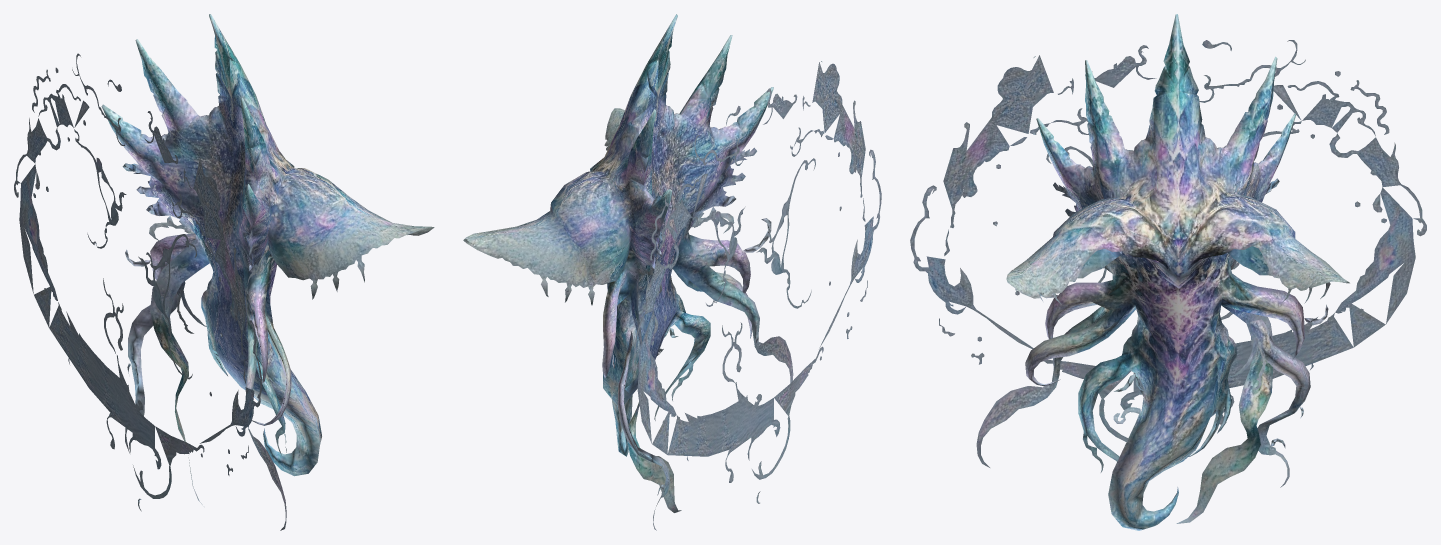
Rendered from hadal-crystal-tide-oracle-echo.glb.
3 renders of one model, left to right at view 1: azimuth 30°, elevation 25°; view 2: azimuth 150°, elevation 25°; view 3: azimuth 270°, elevation 25°, orthographic. The views are drawn at different scales.
Visible parts, largest first — view 1: tripo_node_139f2f7f-2302-4c8b-a815-867a1b6c78af; view 2: tripo_node_139f2f7f-2302-4c8b-a815-867a1b6c78af; view 3: tripo_node_139f2f7f-2302-4c8b-a815-867a1b6c78af.
Part boxes in pixels (x1,y1,x2,y2): tripo_node_139f2f7f-2302-4c8b-a815-867a1b6c78af: (14,14,434,530); tripo_node_139f2f7f-2302-4c8b-a815-867a1b6c78af: (463,14,881,530); tripo_node_139f2f7f-2302-4c8b-a815-867a1b6c78af: (910,14,1426,530).
Size of the model in its own units: 0.4668 by 0.998 by 0.9121.
Materials: 1 (1 with a texture image).
